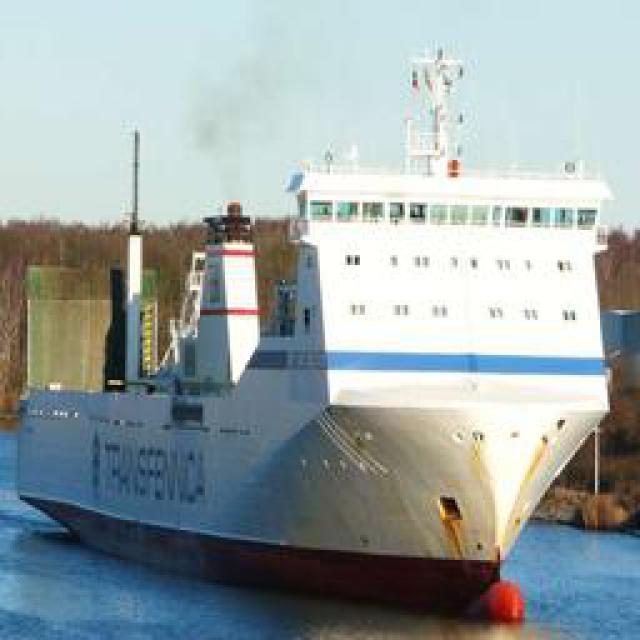Ship: (21, 100, 614, 613)
